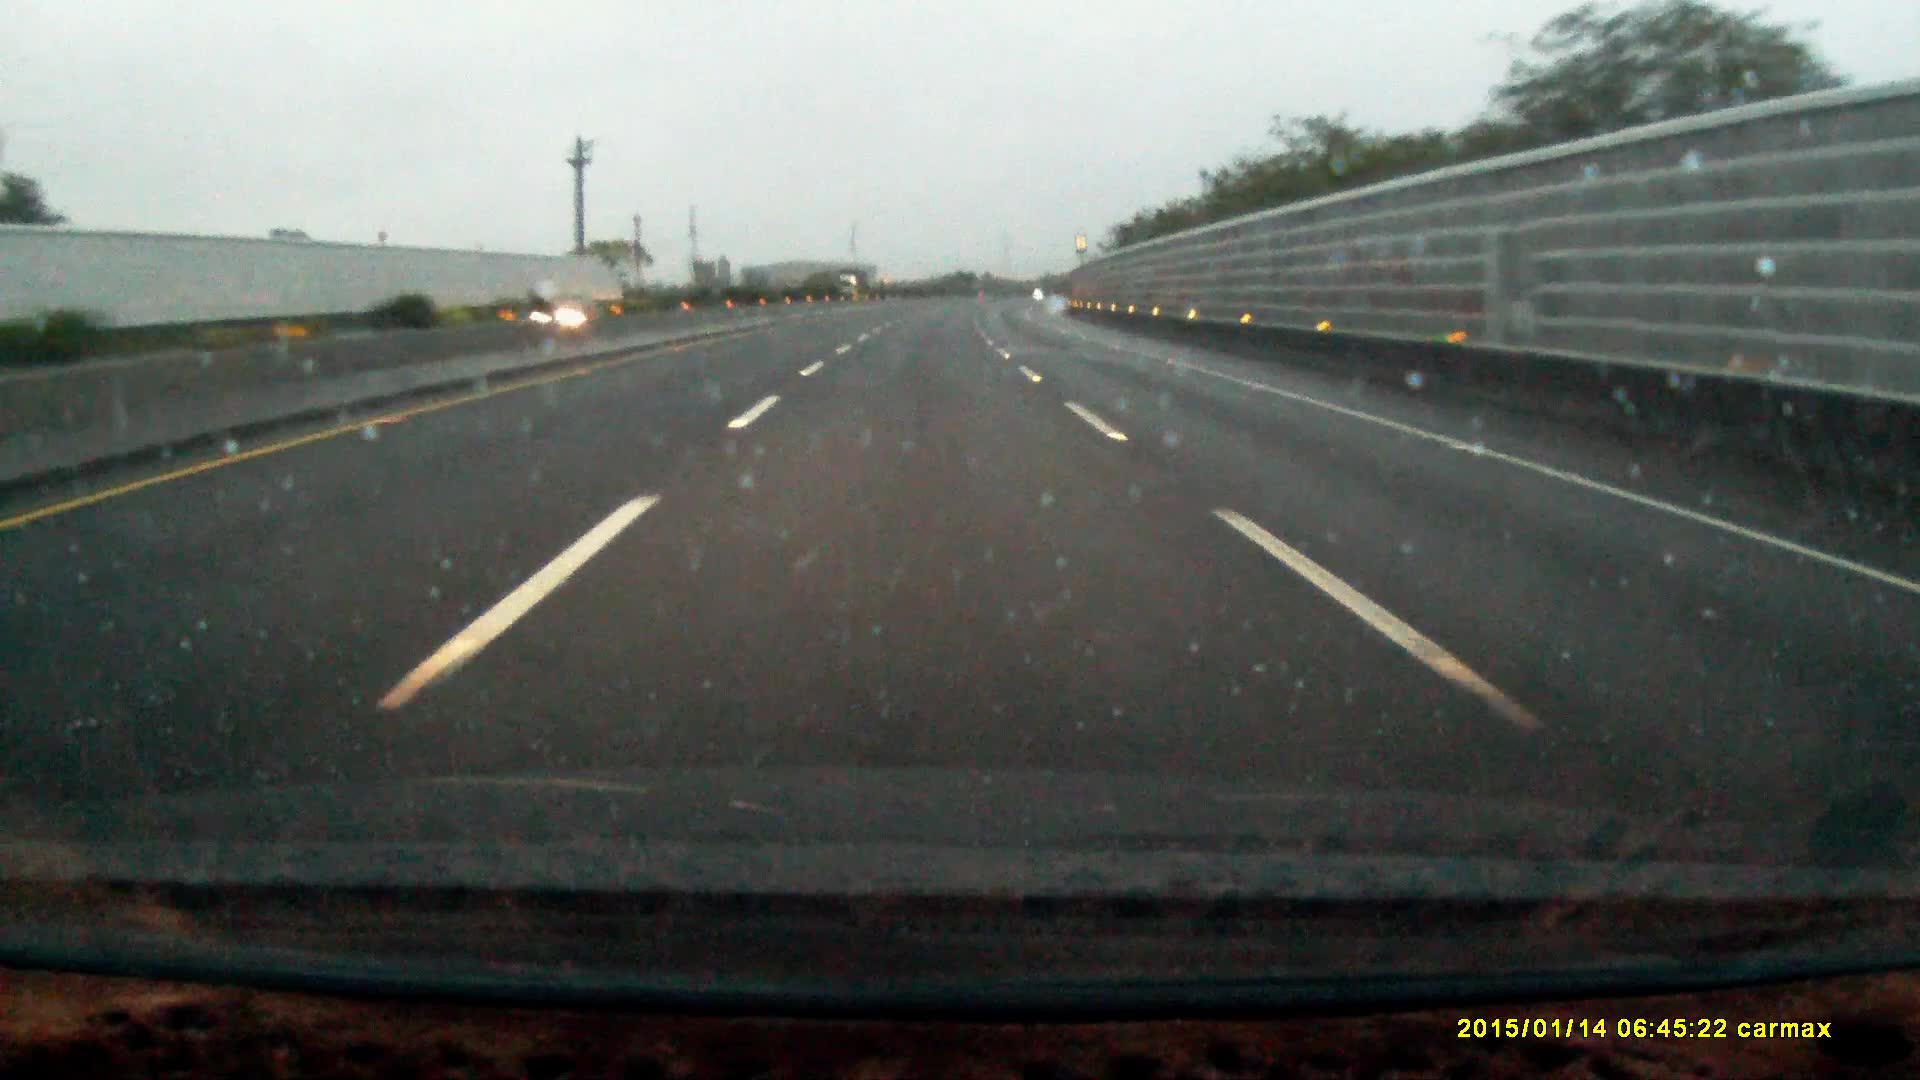vehicle: (527, 295, 615, 343), (837, 272, 870, 305)
